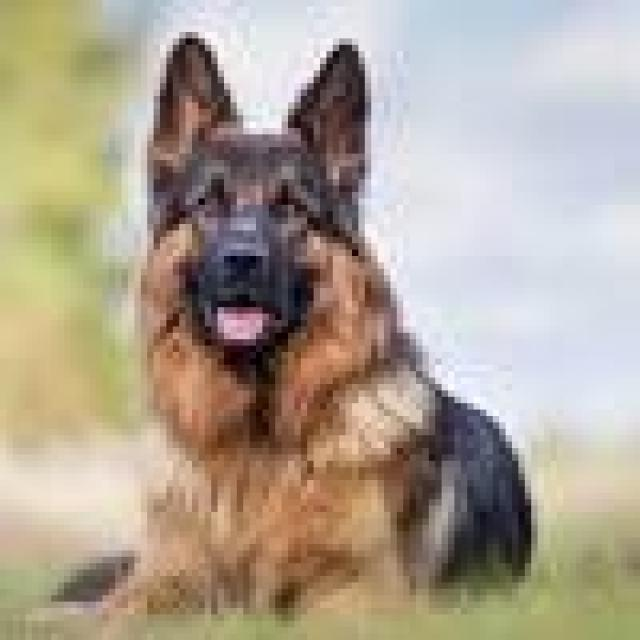Dog: (38, 29, 545, 625)
